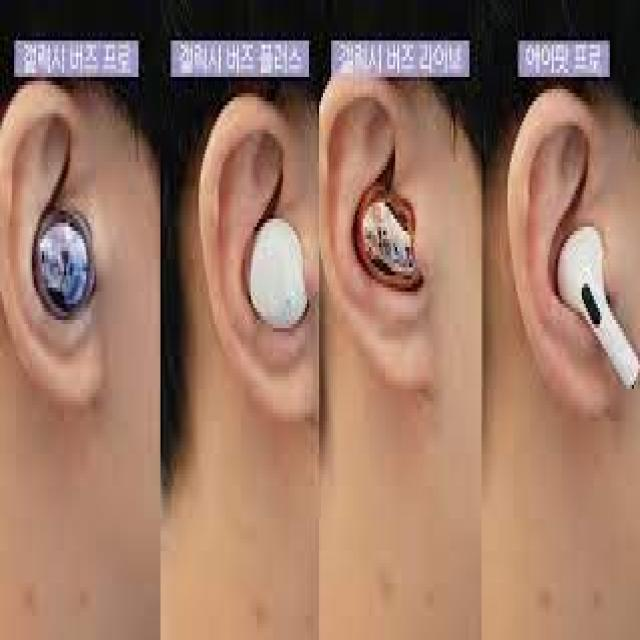earphone: (543, 185, 640, 398), (22, 184, 114, 361), (339, 150, 430, 319), (233, 192, 315, 356)
